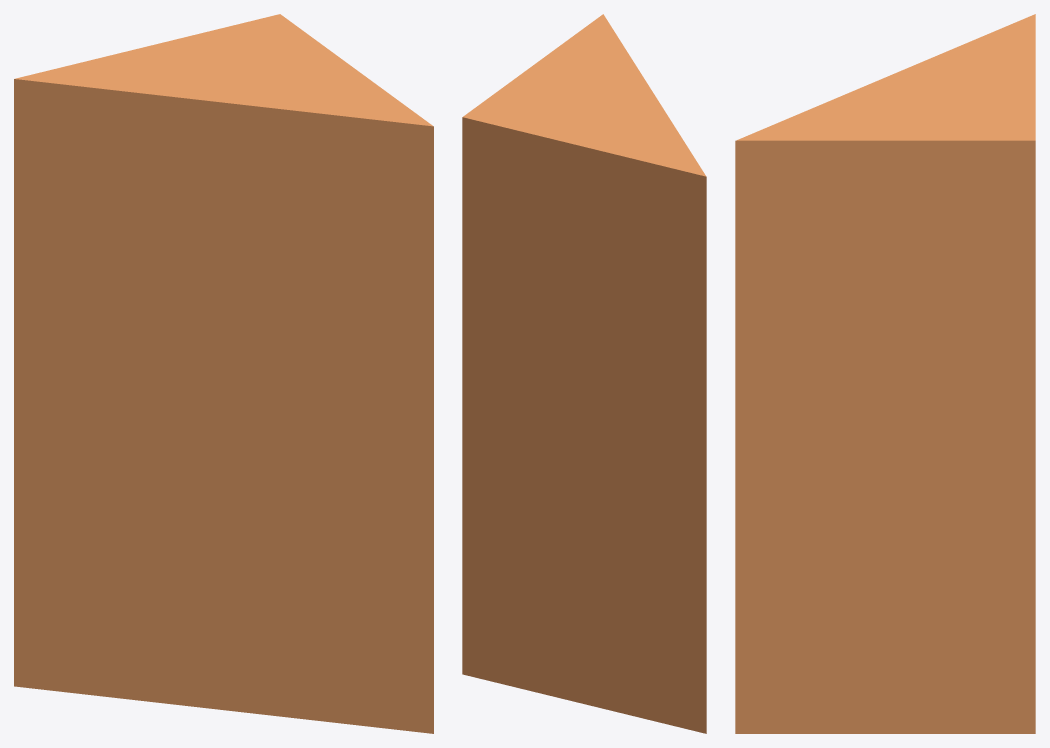
Rendered from cliffBrown_cornerMid.fbx.
3 renders of one model, left to right at view 1: azimuth 30°, elevation 25°; view 2: azimuth 150°, elevation 25°; view 3: azimuth 270°, elevation 25°, orthographic. The views are drawn at different scales.
Parts seen in each view (by area): view 1: cliffBrown_cornerMid; view 2: cliffBrown_cornerMid; view 3: cliffBrown_cornerMid.
Boxes of the visible parts, bbox=[...] form: cliffBrown_cornerMid: bbox=[14, 14, 433, 733]; cliffBrown_cornerMid: bbox=[462, 14, 706, 733]; cliffBrown_cornerMid: bbox=[735, 14, 1035, 733].
Size of the model in its own units: 4.58 by 10 by 4.58.
